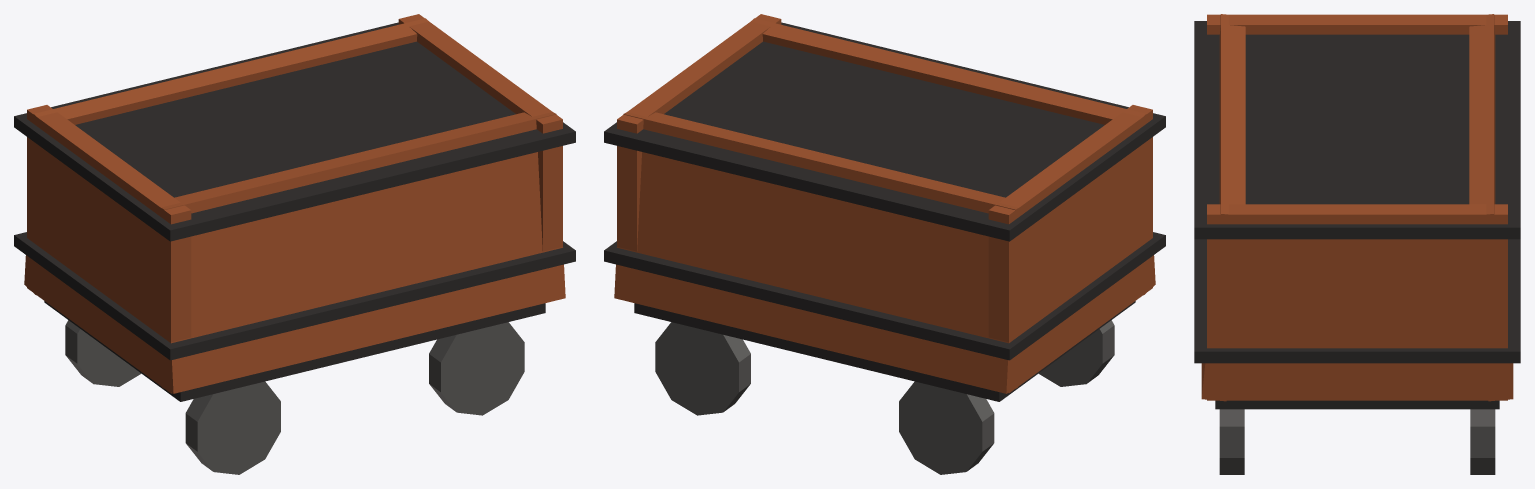
File: QuarryMinecart.fbx
The picture shows the model from 3 angles, left to right: view 1: azimuth 30°, elevation 25°; view 2: azimuth 150°, elevation 25°; view 3: azimuth 270°, elevation 25°; orthographic projection. The views are drawn at different scales.
Parts seen in each view (by area): view 1: Cart, Wheels; view 2: Cart, Wheels; view 3: Cart, Wheels.
Boxes of the visible parts, x1,y1,x2,y2 form: Cart: [24, 14, 565, 401]; Wheels: [14, 22, 575, 474]; Cart: [614, 14, 1155, 401]; Wheels: [604, 22, 1165, 474]; Cart: [1201, 14, 1513, 409]; Wheels: [1194, 21, 1520, 474].
Bounding box in the file's own units: 6 × 4 × 4.
